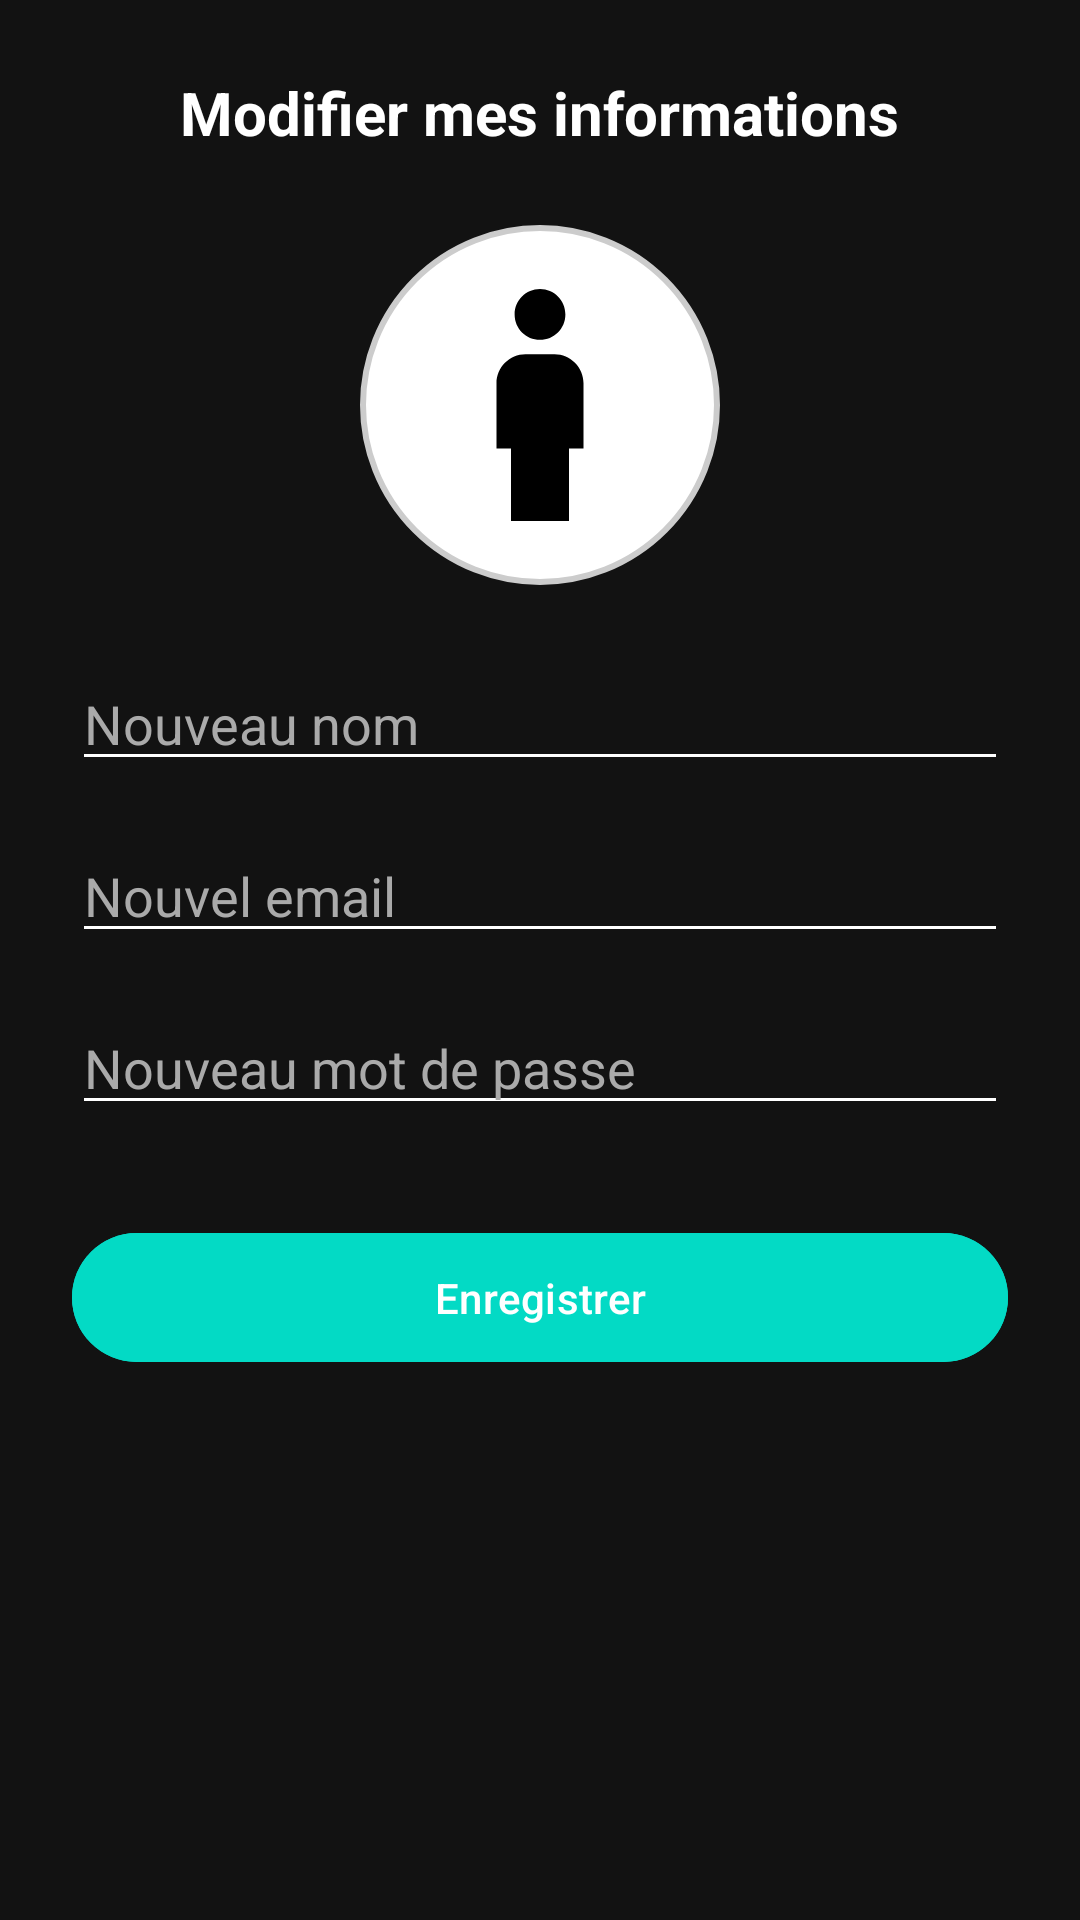

Screen size 1080x1920. Icon name, then its center in pixels as point (x, y):
profile: point (540, 405)
